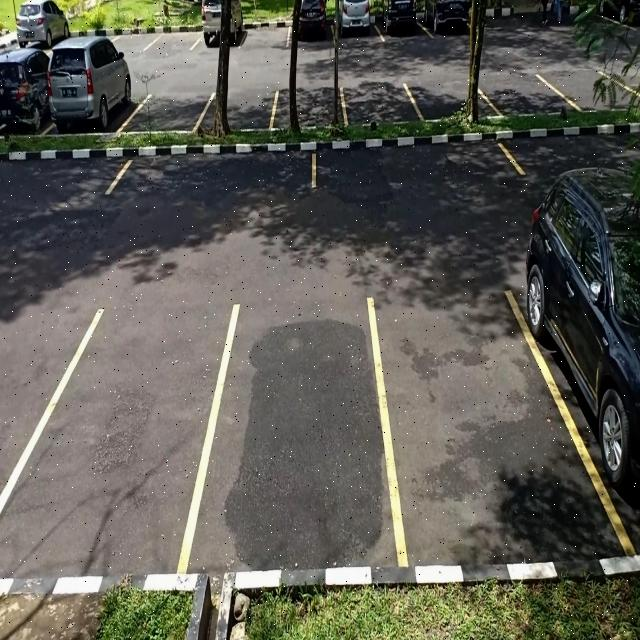empty: (376, 288, 574, 566), (18, 295, 208, 577), (207, 298, 393, 572), (312, 134, 524, 190), (108, 139, 316, 196), (340, 84, 419, 128), (272, 84, 346, 130), (414, 80, 486, 124), (130, 92, 207, 133), (202, 90, 276, 132), (487, 75, 556, 117), (144, 15, 200, 52), (239, 17, 291, 51)
occupied: (522, 215, 640, 560), (47, 44, 134, 135), (0, 49, 51, 139), (193, 0, 246, 51), (286, 0, 334, 48), (378, 0, 430, 41), (331, 0, 377, 45)
